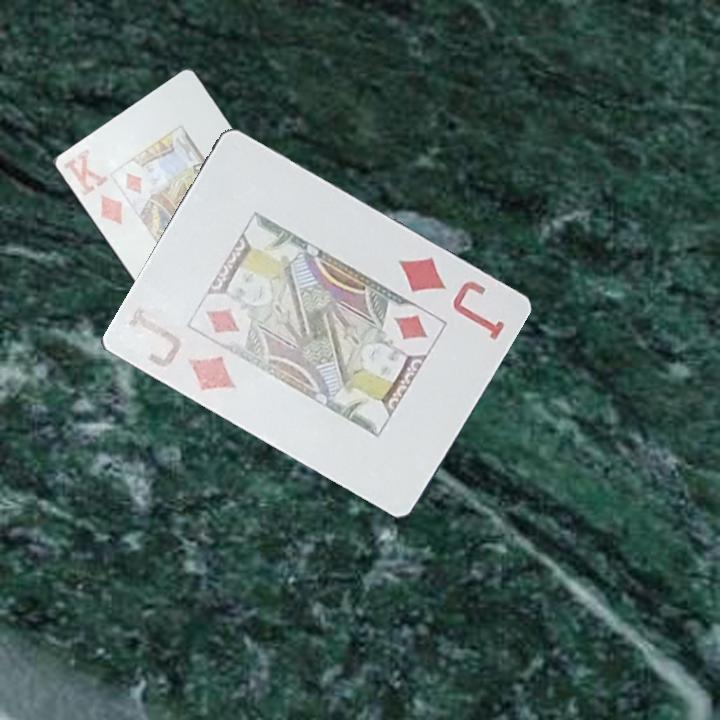Jd: (119, 304, 238, 397), (393, 253, 507, 344)
Kd: (59, 145, 126, 227)
